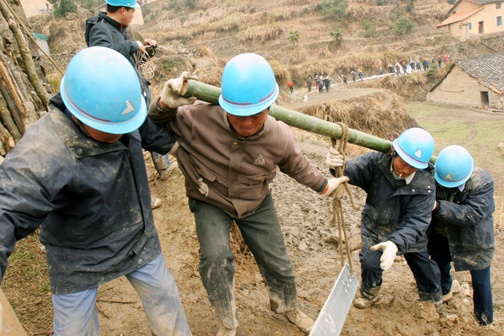blue: (57, 47, 148, 144), (213, 48, 280, 134), (390, 126, 434, 178), (434, 144, 473, 190), (104, 1, 136, 25)
